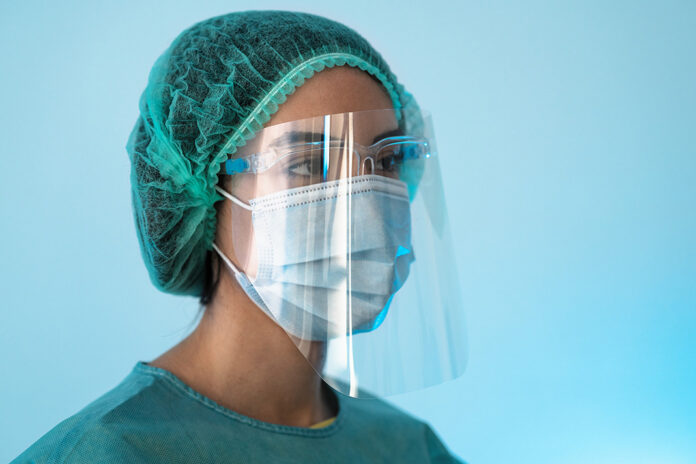with_mask: (265, 136, 411, 325)
